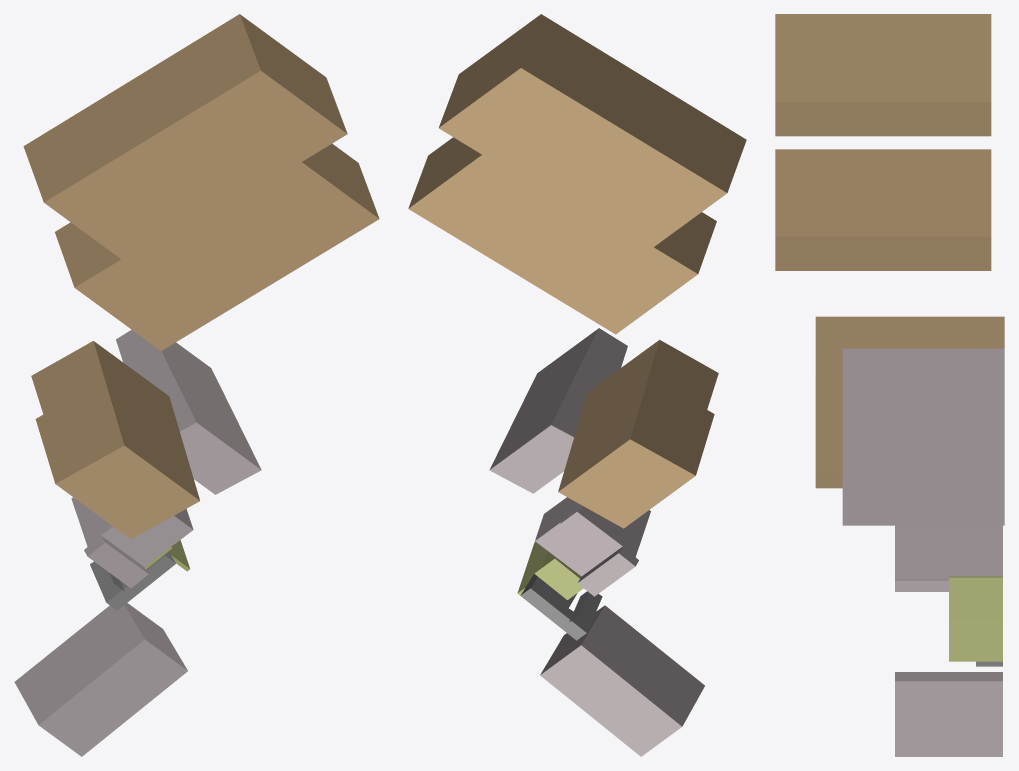
3 renders of one model, left to right at view 1: azimuth 30°, elevation 25°; view 2: azimuth 150°, elevation 25°; view 3: azimuth 270°, elevation 25°, orthographic. The views are drawn at different scales.
Parts seen in each view (by area): view 1: 0_3_1_3_0_0; view 2: 0_3_1_3_0_0; view 3: 0_3_1_3_0_0.
Part boxes in pixels (x1,y1,x2,y2): 0_3_1_3_0_0: [14, 14, 379, 756]; 0_3_1_3_0_0: [408, 14, 746, 756]; 0_3_1_3_0_0: [775, 14, 1004, 756].
Bounding box in the file's own units: 43.75 × 102 × 25.5.
